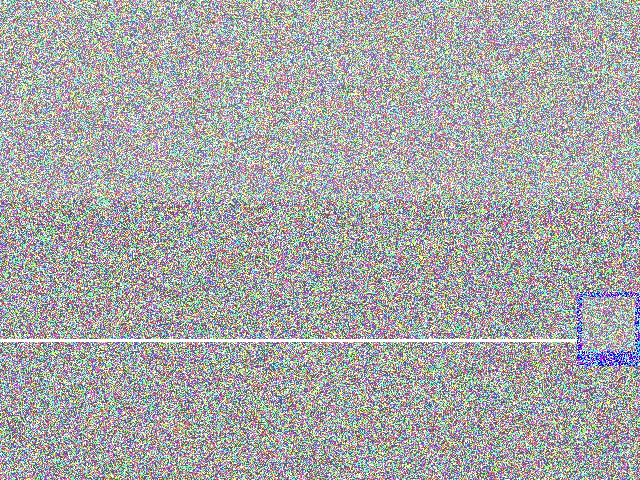motorcycle: (196, 134, 378, 222)
truck: (280, 139, 424, 210)
